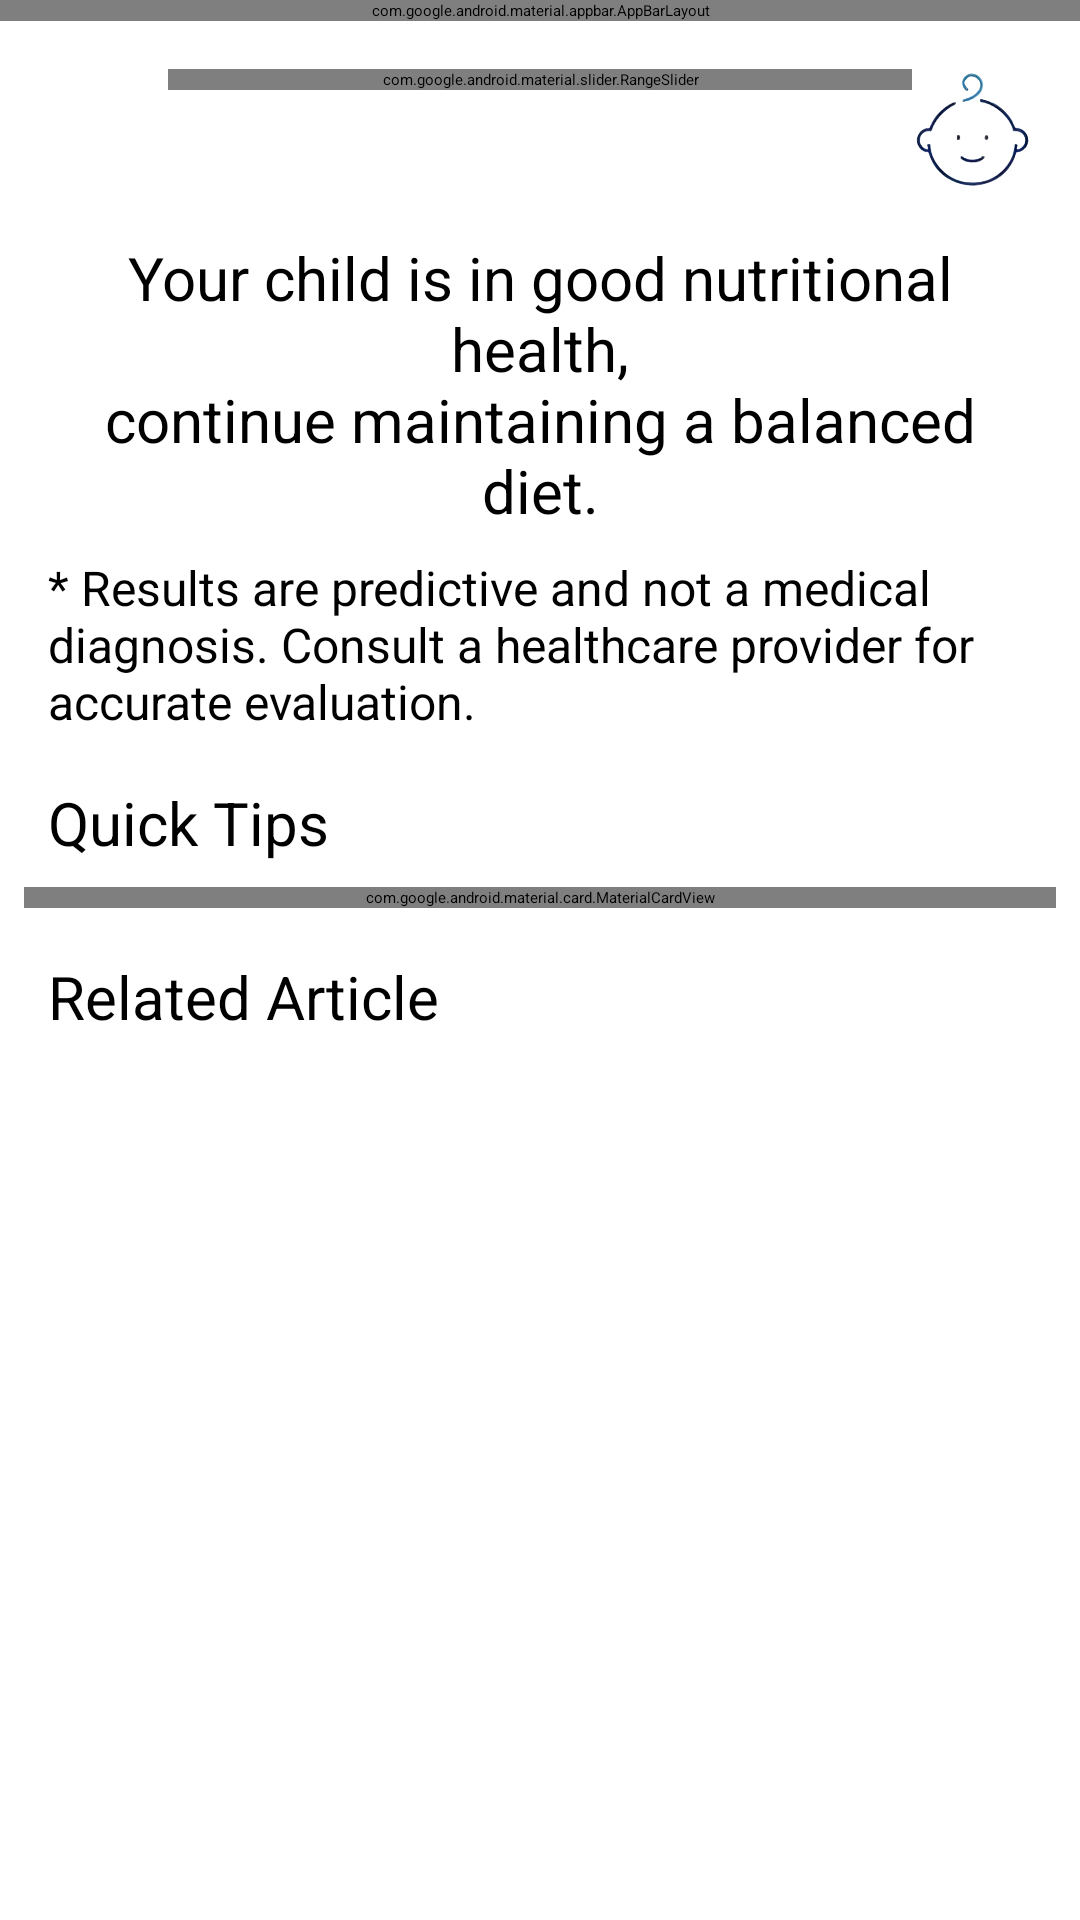

Where to tap for icons on this 1080 × 1920 app screen, as (x=x, y=y):
babyicon smile: (x=973, y=129)
